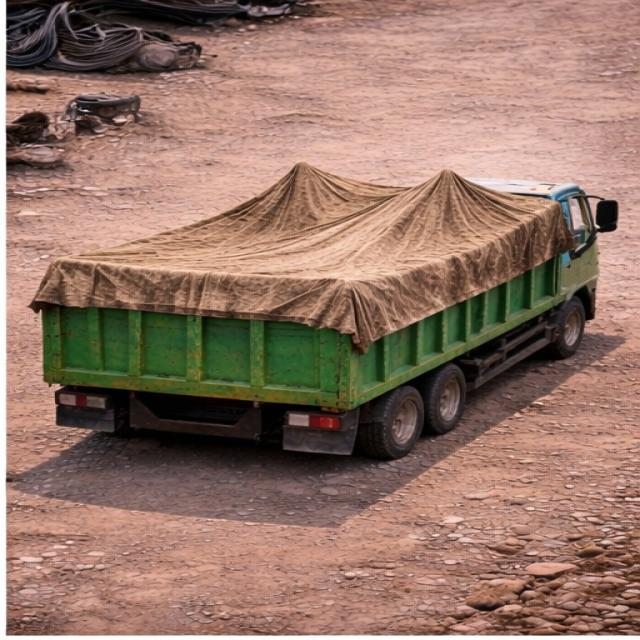trailer: (53, 164, 557, 292)
truck: (47, 0, 638, 300)
